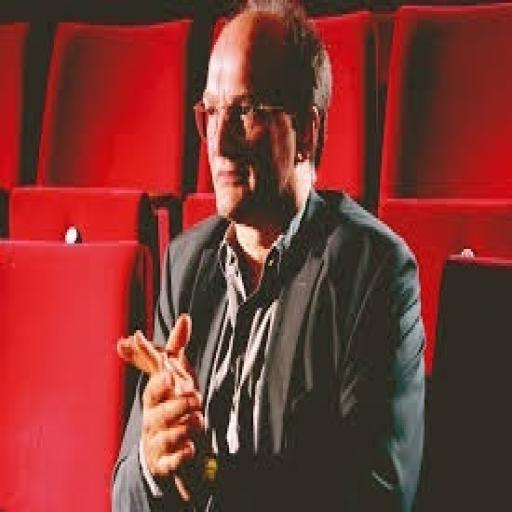clapping: (108, 0, 426, 509)
